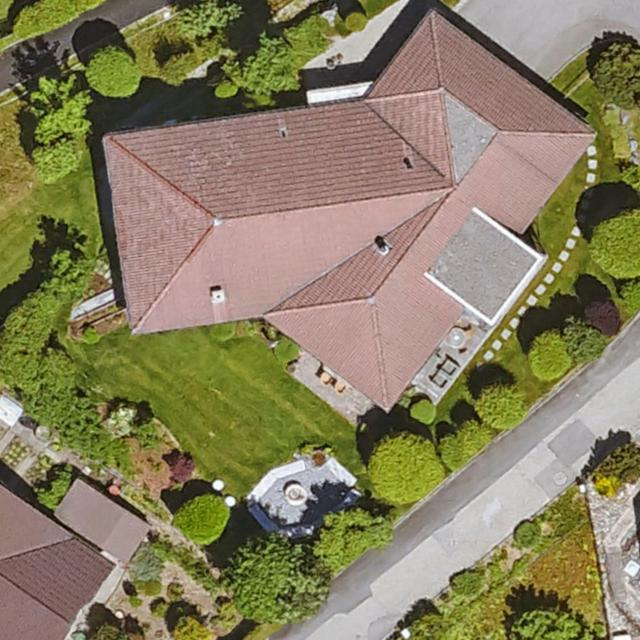tree: (226, 534, 325, 619), (221, 36, 297, 111), (311, 508, 389, 571), (366, 433, 433, 503), (31, 77, 92, 140), (589, 210, 640, 278), (177, 0, 243, 48), (592, 42, 640, 106), (87, 48, 139, 100), (506, 608, 589, 640), (176, 492, 225, 541), (31, 139, 82, 186), (529, 330, 576, 381), (477, 382, 524, 429), (562, 318, 604, 360), (586, 300, 621, 335), (172, 614, 210, 640), (97, 621, 138, 640), (617, 280, 640, 313)
